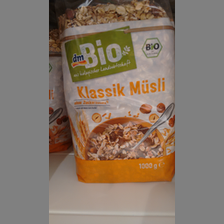cereal: (59, 2, 174, 184)
